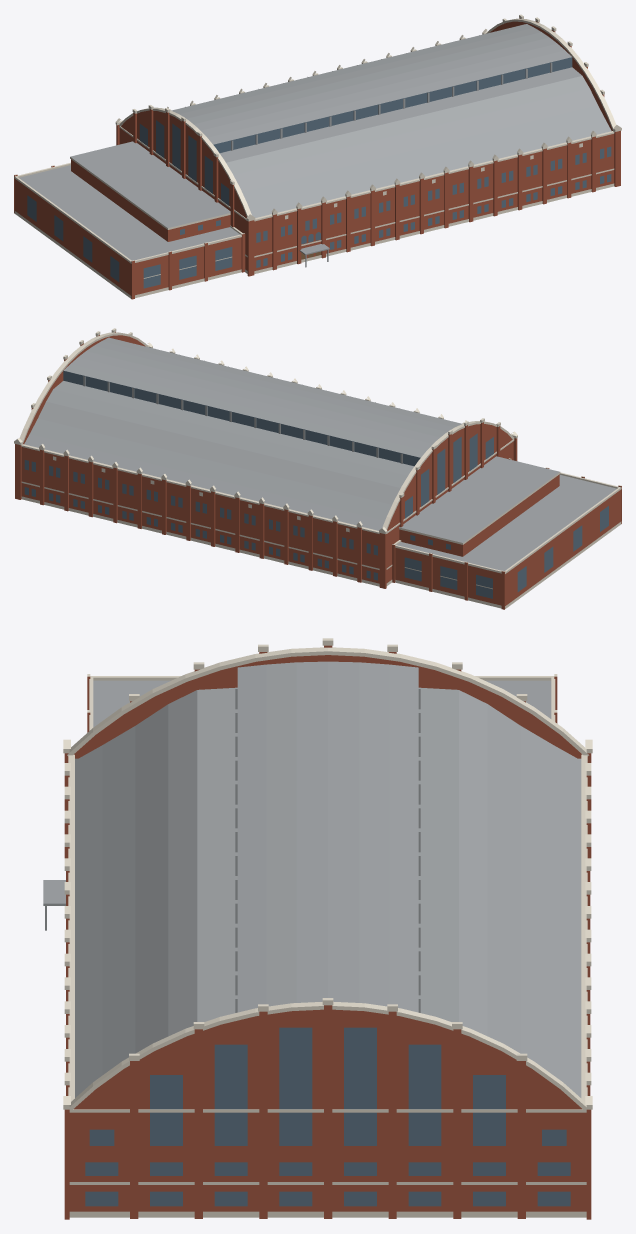
The model's file is indy-hinkle-fieldhouse.glb.
The picture shows the model from 3 angles, top to bottom: view 1: azimuth 30°, elevation 25°; view 2: azimuth 150°, elevation 25°; view 3: azimuth 270°, elevation 25°; orthographic projection. The views are drawn at different scales.
Visible parts, largest first — view 1: Hinkle Fieldhouse; view 2: Hinkle Fieldhouse; view 3: Hinkle Fieldhouse.
Part boxes in pixels (x1=…): Hinkle Fieldhouse: x1=14, y1=14, x2=621, y2=299; Hinkle Fieldhouse: x1=14, y1=328, x2=621, y2=609; Hinkle Fieldhouse: x1=43, y1=638, x2=592, y2=1219.
Size of the model in its own units: 135 by 29.4 by 66.75.
